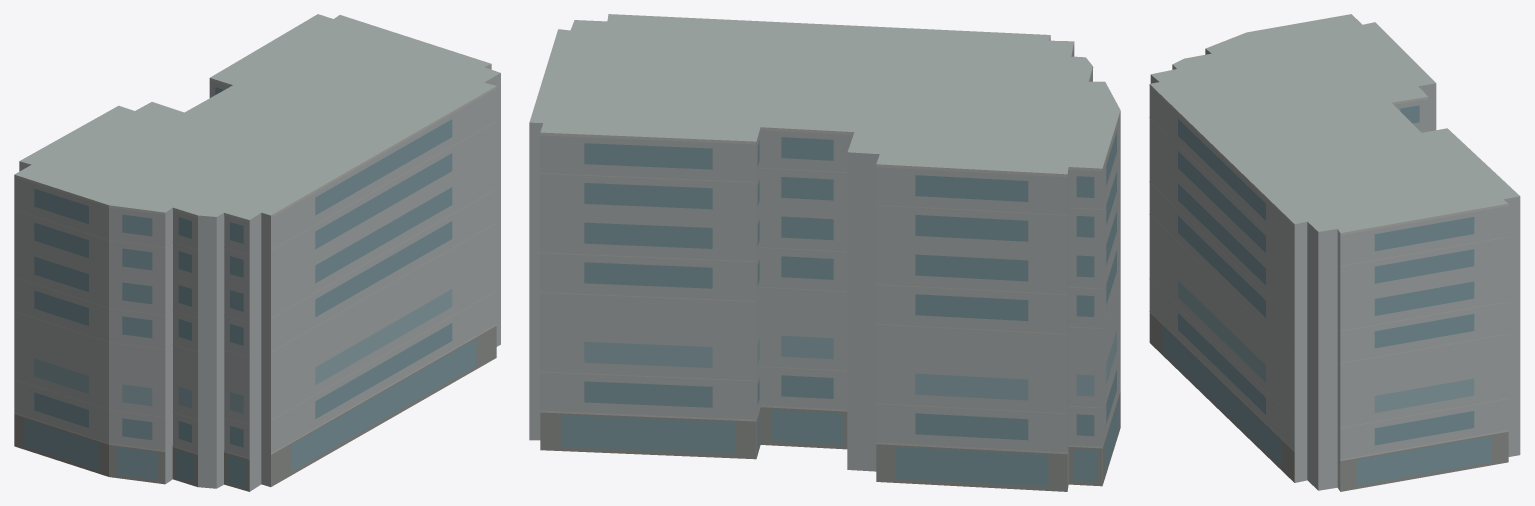
File: survey-upis-32857947.glb
3 renders of one model, left to right at view 1: azimuth 30°, elevation 25°; view 2: azimuth 150°, elevation 25°; view 3: azimuth 270°, elevation 25°, orthographic. The views are drawn at different scales.
Visible parts, largest first — view 1: survey-upis-32857947.tmp; view 2: survey-upis-32857947.tmp; view 3: survey-upis-32857947.tmp.
Boxes of the visible parts, x1,y1,x2,y2 form: survey-upis-32857947.tmp: (14,14,500,491); survey-upis-32857947.tmp: (529,14,1120,491); survey-upis-32857947.tmp: (1149,14,1520,491).
Bounding box in the file's own units: 47.88 × 26.35 × 34.24.
